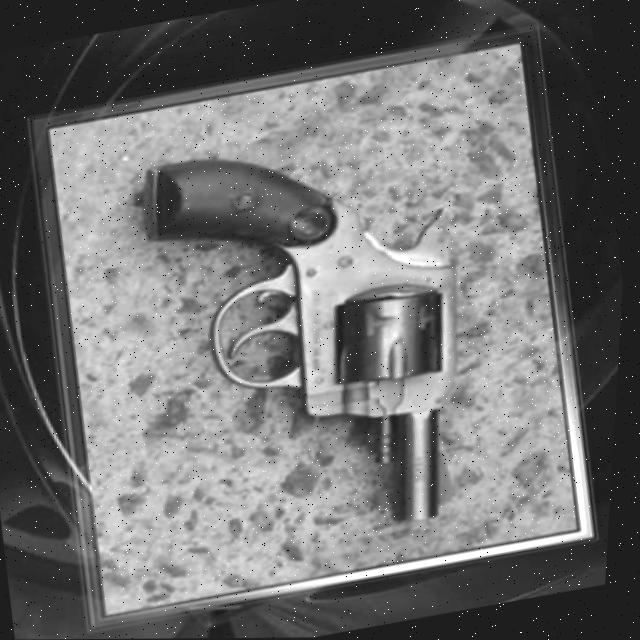pistol: (109, 111, 515, 566)
